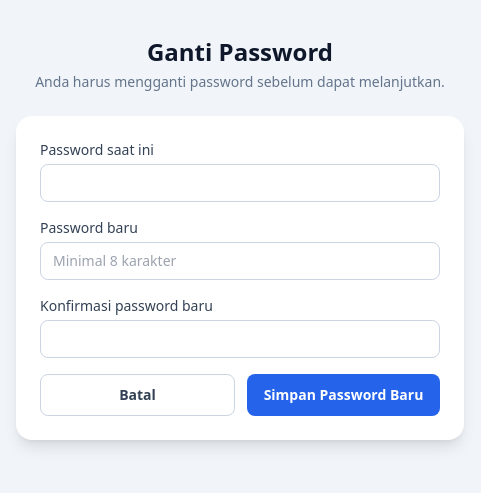
Test case: ChangePasswordPage (T1.11a) › submit sukses → pesan sukses tampil
In the password field labelled "Password saat ini": (240, 183) [40, 164, 440, 202], type "Lama123!"
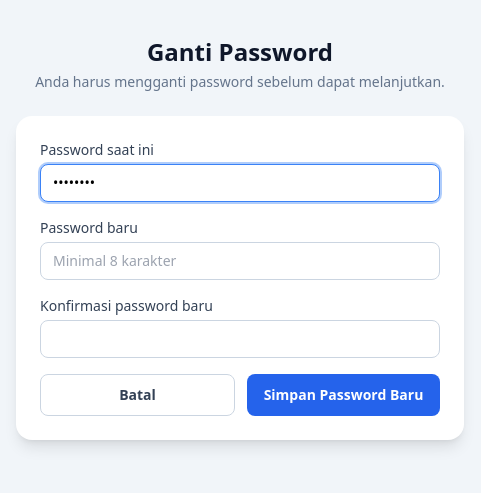
In the password field labelled "Password baru": (240, 261) [40, 242, 440, 280], type "Baru123456!"
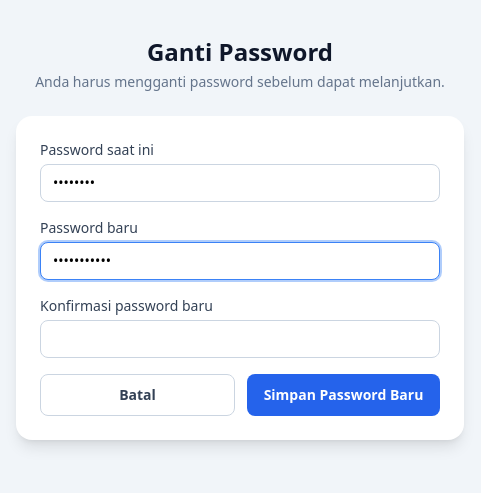
In the password field labelled "Konfirmasi password baru": (240, 339) [40, 320, 440, 358], type "Baru123456!"
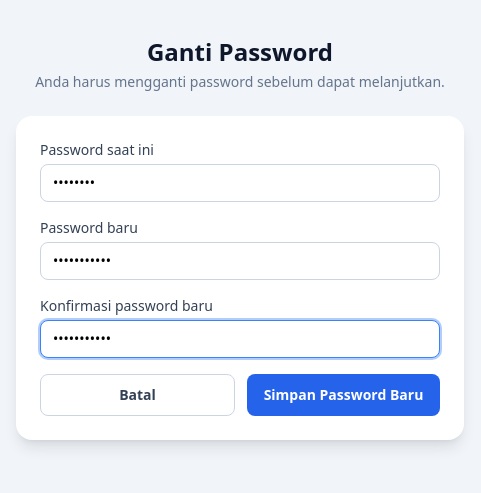
Click the button "Simpan Password Baru": click(344, 395) [247, 374, 440, 416]
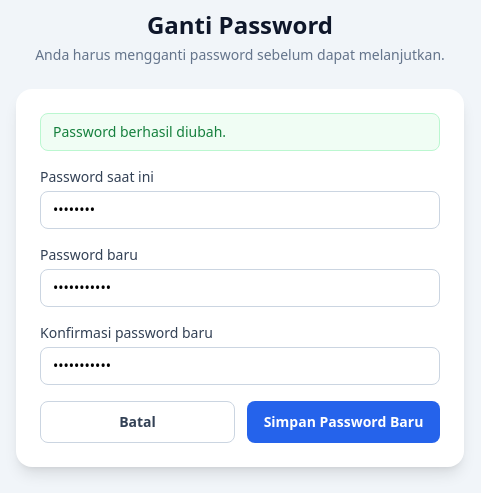
Result: the text "Password berhasil diubah." is shown at [40, 113, 440, 151]
